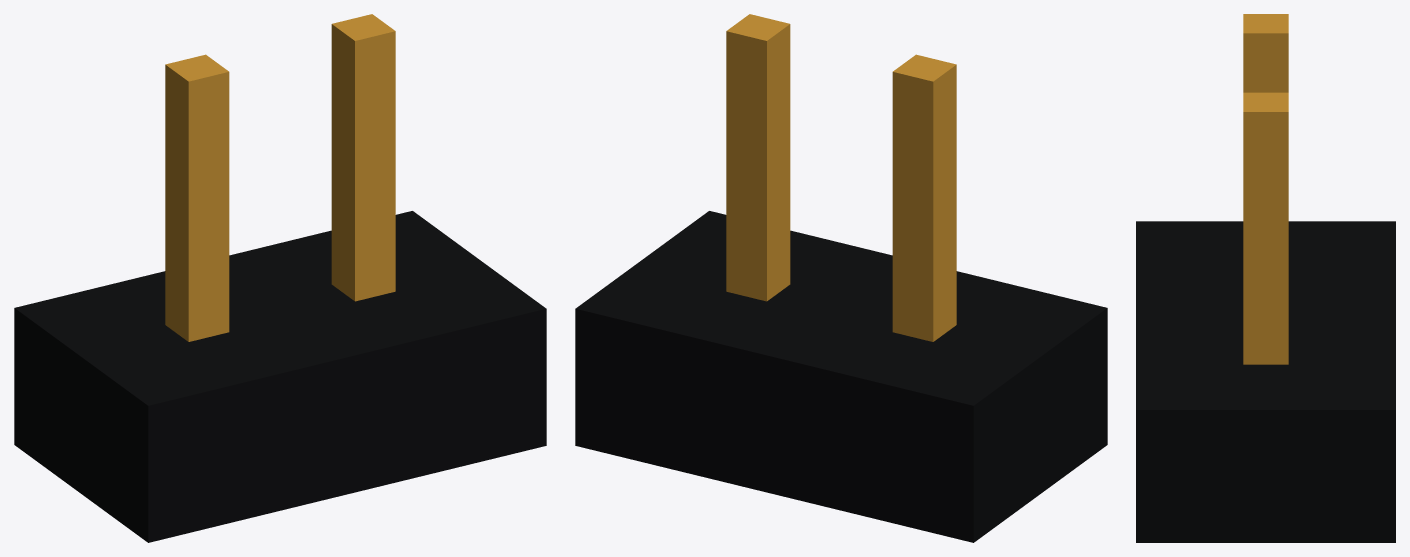
Rendered from L32_T_SENSOR1.fbx.
3 renders of one model, left to right at view 1: azimuth 30°, elevation 25°; view 2: azimuth 150°, elevation 25°; view 3: azimuth 270°, elevation 25°, orthographic. The views are drawn at different scales.
Visible parts, largest first — view 1: T_SENSOR1_Black, T_SENSOR1_Gold; view 2: T_SENSOR1_Black, T_SENSOR1_Gold; view 3: T_SENSOR1_Black, T_SENSOR1_Gold.
Boxes of the visible parts, x1,y1,x2,y2 form: T_SENSOR1_Black: (14,211,546,542); T_SENSOR1_Gold: (165,14,395,341); T_SENSOR1_Black: (575,211,1107,542); T_SENSOR1_Gold: (726,14,956,341); T_SENSOR1_Black: (1136,221,1395,542); T_SENSOR1_Gold: (1243,14,1288,364).
Bounding box in the file's own units: 0.608 × 0.58 × 0.354.
